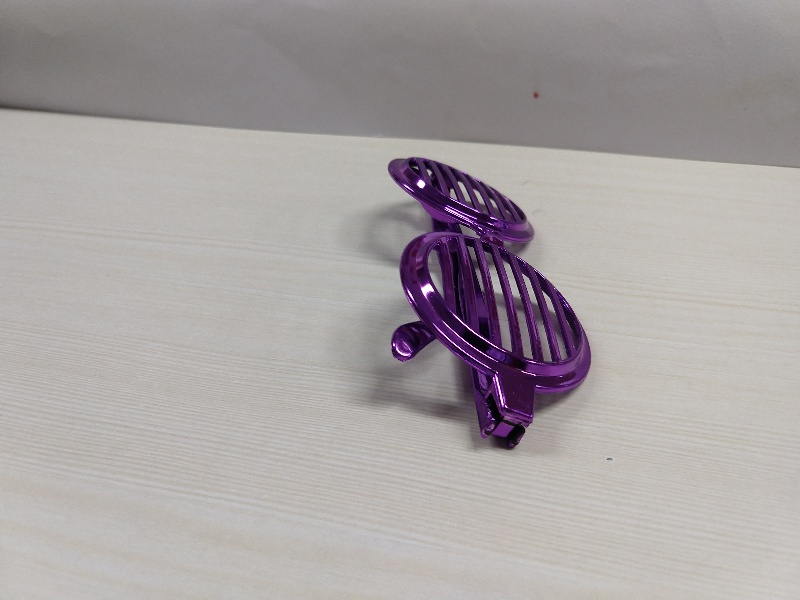shades: (374, 146, 599, 451)
